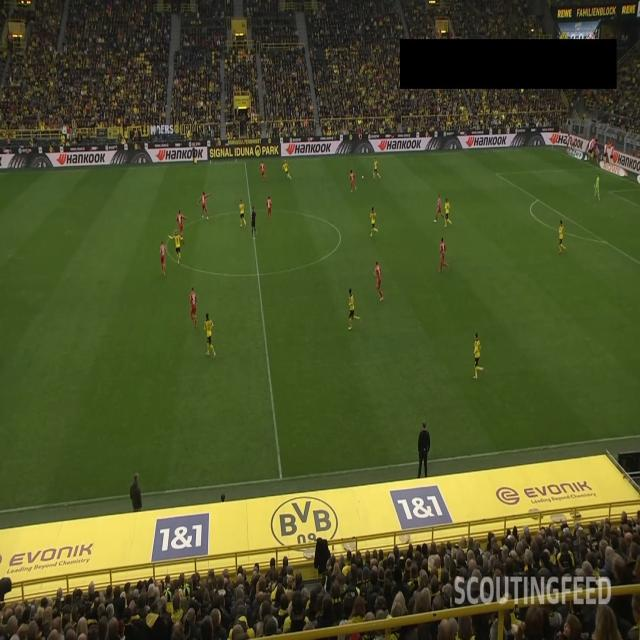ball: (361, 174, 364, 180)
